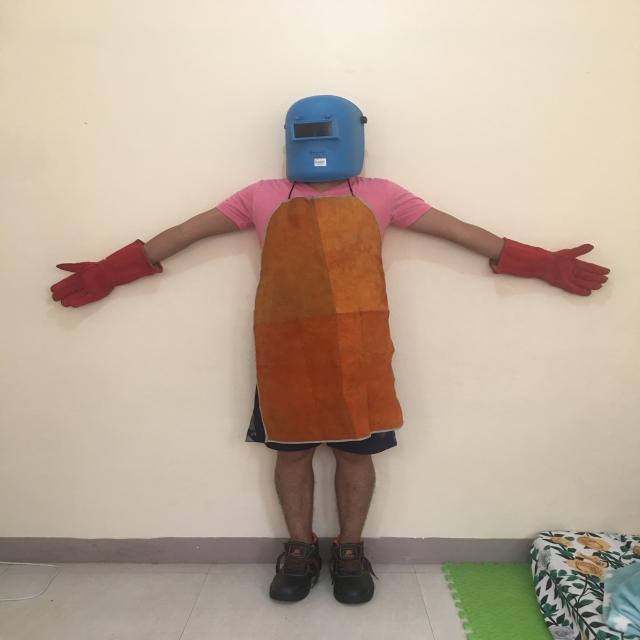with_helmet: (285, 95, 367, 182)
